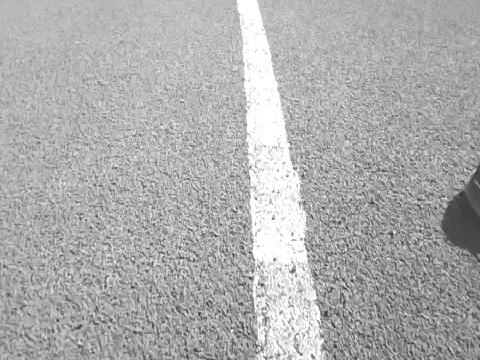Lines: (235, 0, 326, 360)
